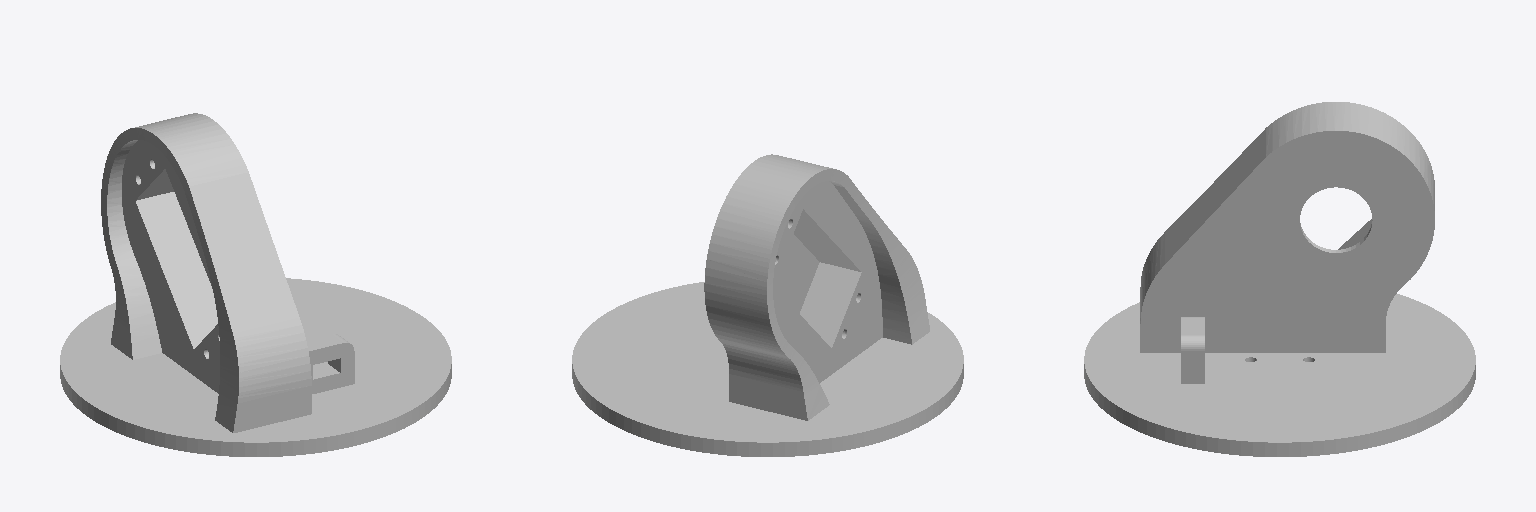
File: pierwszy_obraczacz.obj
The picture shows the model from 3 angles: view 1: azimuth 30°, elevation 25°; view 2: azimuth 150°, elevation 25°; view 3: azimuth 270°, elevation 25°; orthographic projection.
Bounding box in the file's own units: 0.5819 × 0.3887 × 0.582.